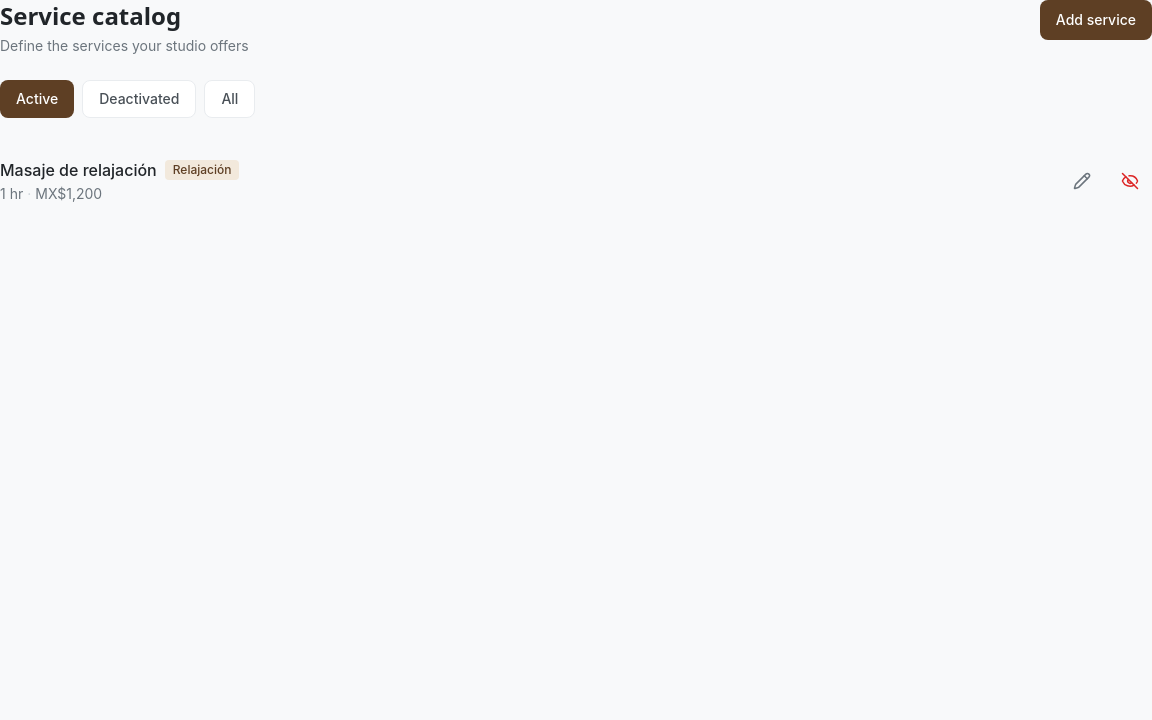
ServiceList › Add service modal › opens add modal when Add service button is clicked
The image size is (1152, 720).
Click the button "Add service" at [1096, 20], box [1040,0,1151,40]
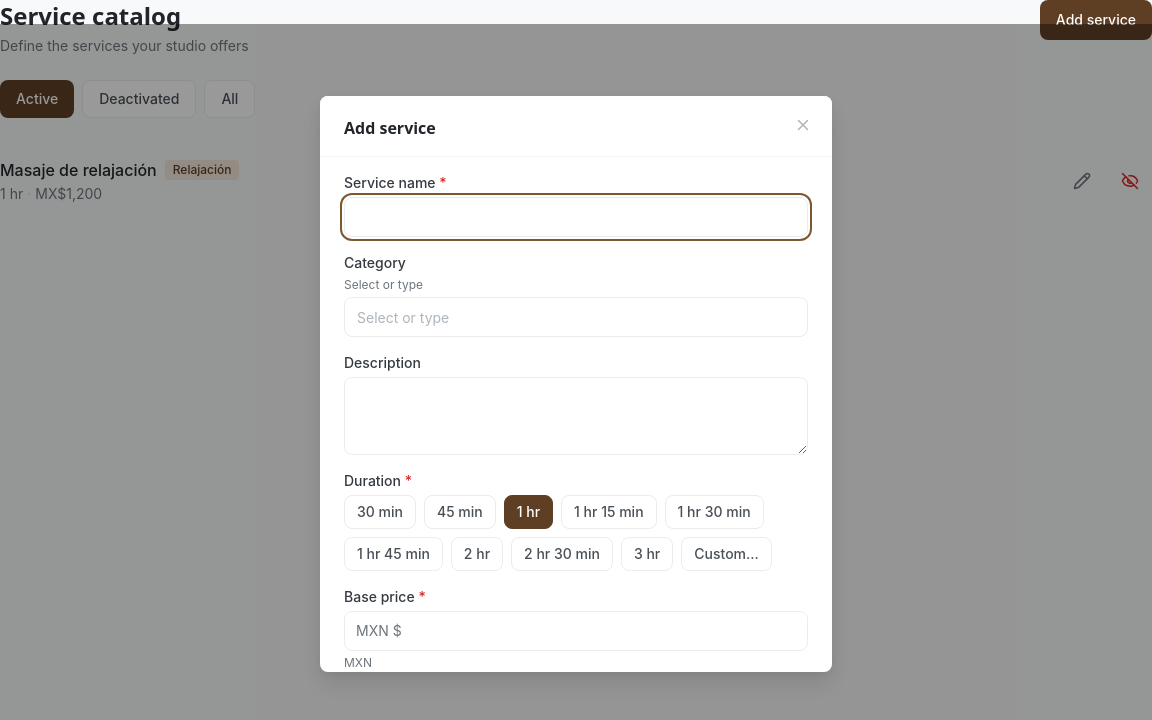
Expected: the dialog "Add service" is shown, [320,96,832,672]
